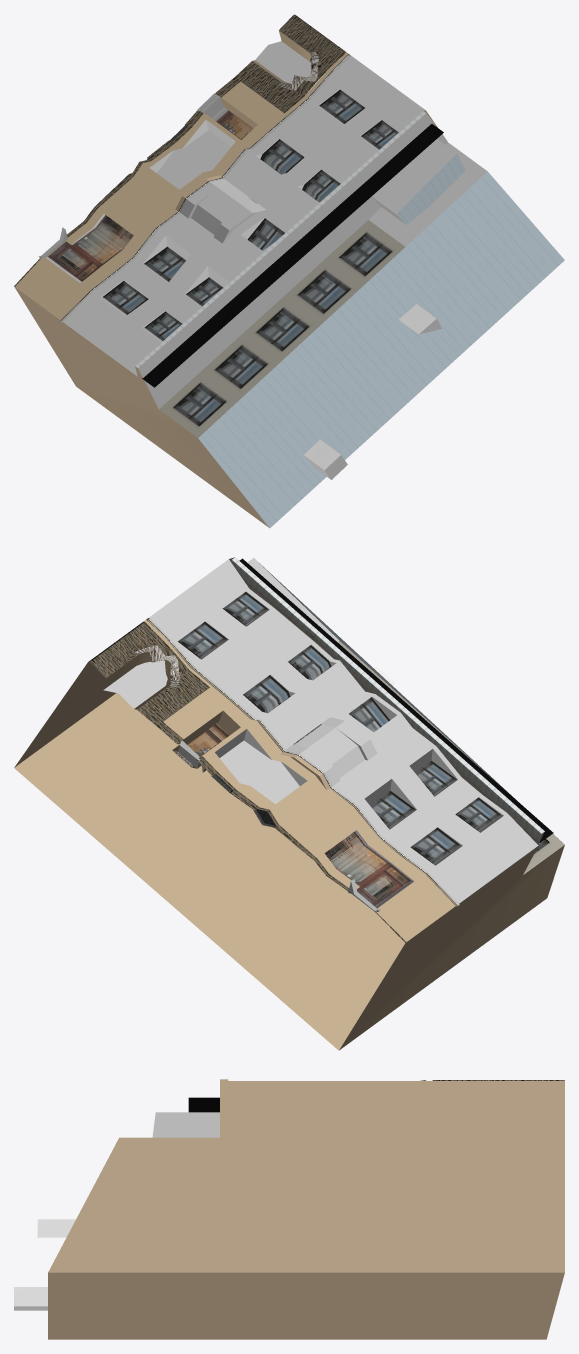
File: Myyrivahe_26-origo.obj
3 views of the same model, one above another, from view 1: azimuth 30°, elevation 25°; view 2: azimuth 150°, elevation 25°; view 3: azimuth 270°, elevation 25° (orthographic). The views are drawn at different scales.
Visible parts, largest first — view 1: Myyrivahe_26; view 2: Myyrivahe_26; view 3: Myyrivahe_26.
Part boxes in pixels (<box>): Myyrivahe_26: <box>14,14,564,528</box>; Myyrivahe_26: <box>14,557,564,1050</box>; Myyrivahe_26: <box>14,1079,564,1339</box>.
Size of the model in its own units: 16.31 by 13.5 by 16.82.
